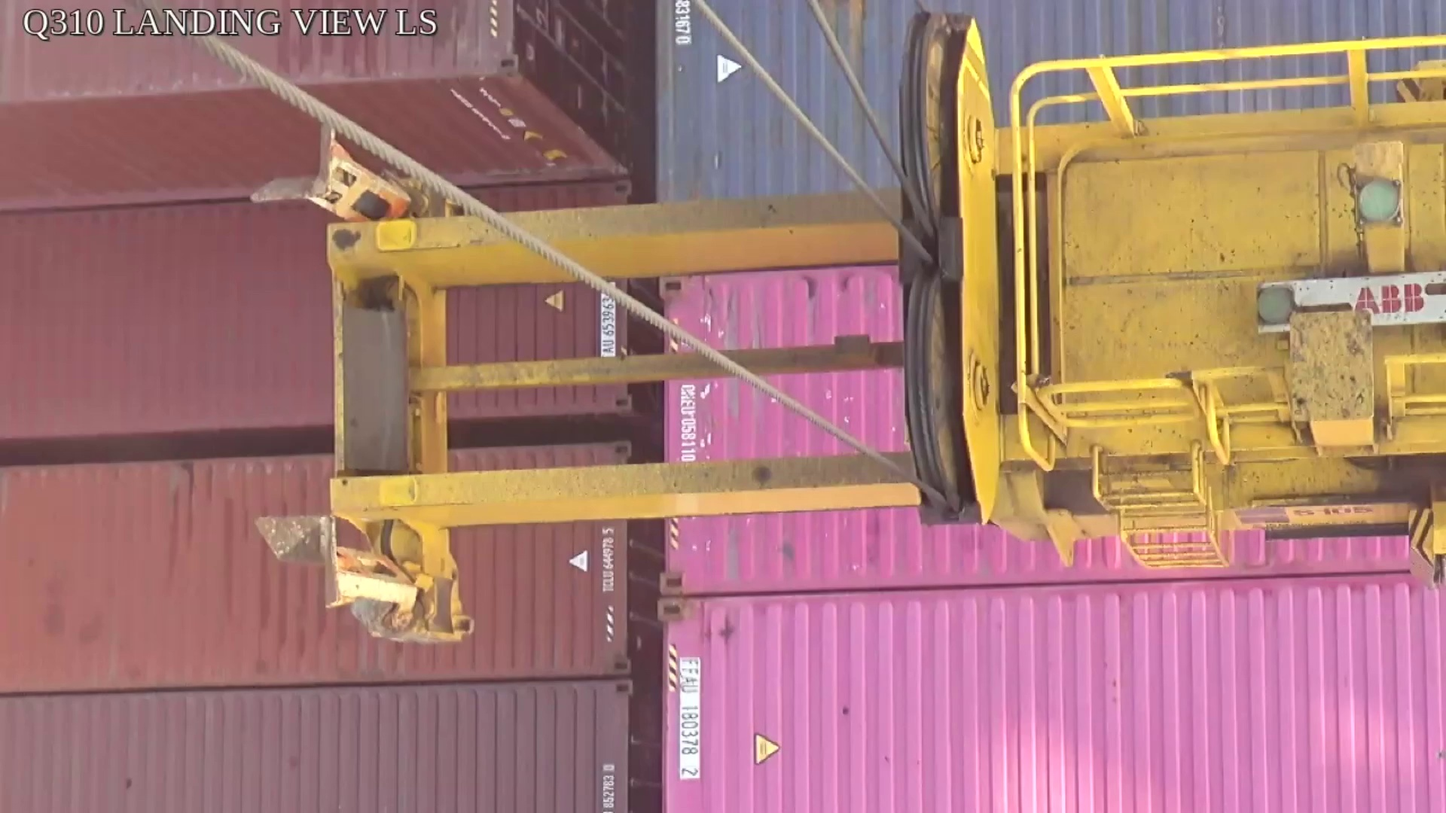aa: (900, 13, 1005, 523)
